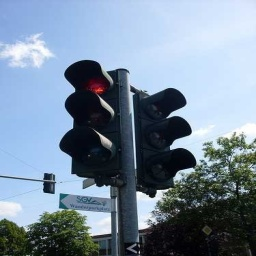traffic light: (58, 59, 124, 175), (132, 88, 196, 189)
